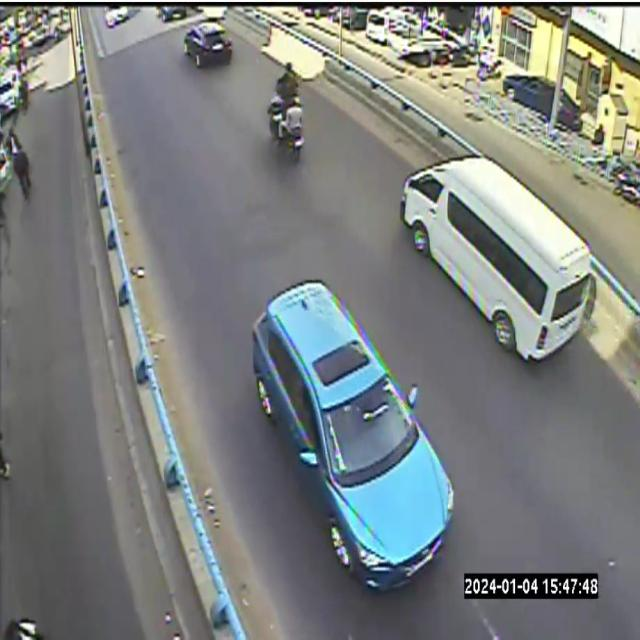car: (385, 140, 595, 373), (503, 75, 554, 120), (558, 89, 582, 131), (157, 5, 187, 21)
